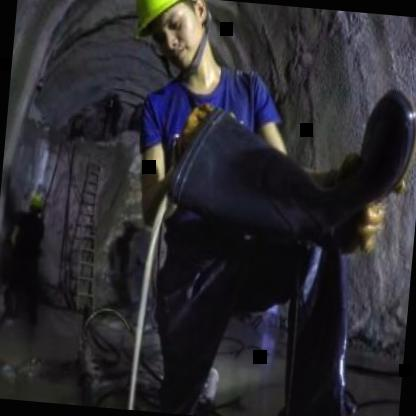helmet: (121, 0, 219, 75)
